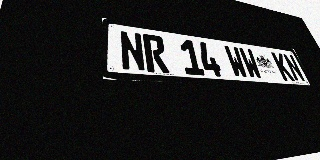1: (178, 39, 205, 76)
4: (196, 41, 223, 77)
K: (271, 52, 295, 81)
N: (119, 30, 147, 72), (282, 54, 306, 82)
R: (142, 33, 170, 73)
W: (223, 45, 249, 78), (238, 47, 264, 79)
